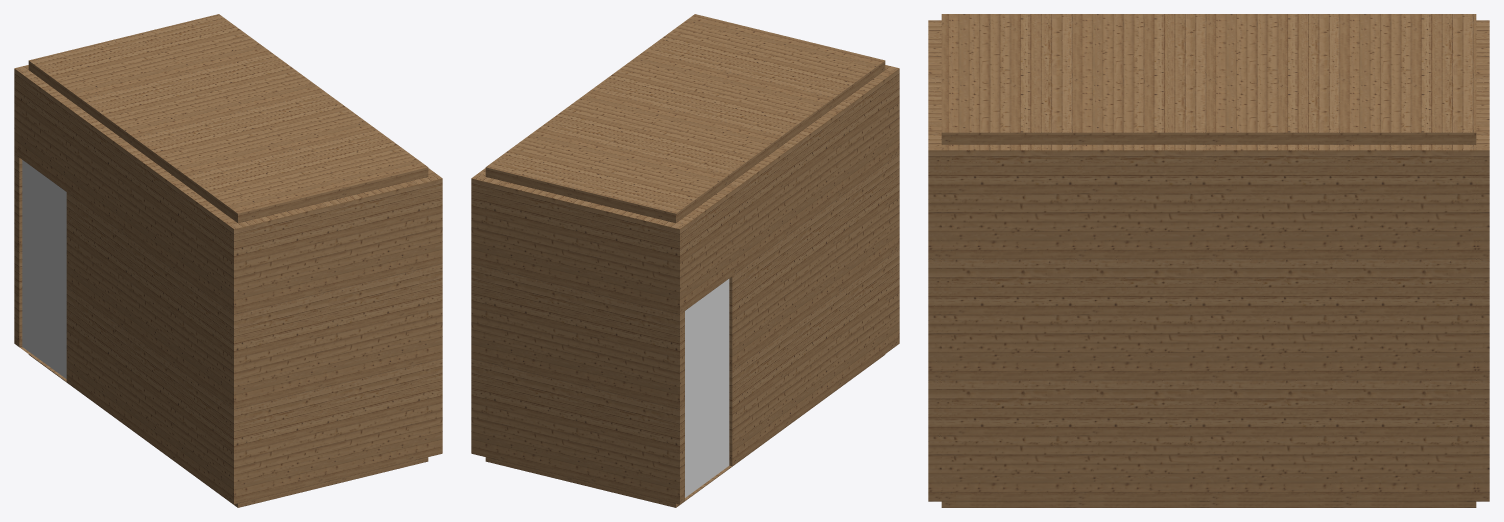
The model's file is Sauna(1).fbx.
3 views of the same model, side by side, from view 1: azimuth 30°, elevation 25°; view 2: azimuth 150°, elevation 25°; view 3: azimuth 270°, elevation 25° (orthographic). The views are drawn at different scales.
Visible parts, largest first — view 1: Cube.012, Cube.013, Cube.004, Cube.002, Cube.003, Cube.005, Cube.023, Cube.018, Cube.008; view 2: Cube.018, Cube.013, Cube.003, Cube.002, Cube.004, Cube.005, Cube.023, Cube.012, Cube.008; view 3: Cube.013, Cube.001, Cube.032, Cube.024, Cube.031, Cube.012, Cube.018, Cube.008.
Boxes of the visible parts, x1,y1,x2,y2 form: Cube.012: [229, 174, 442, 504]; Cube.013: [28, 14, 428, 222]; Cube.004: [124, 146, 184, 461]; Cube.002: [176, 185, 237, 500]; Cube.003: [72, 108, 132, 423]; Cube.005: [22, 160, 66, 378]; Cube.023: [19, 70, 80, 385]; Cube.018: [14, 65, 28, 347]; Cube.008: [28, 354, 428, 507]; Cube.018: [471, 174, 684, 504]; Cube.013: [485, 14, 885, 222]; Cube.003: [729, 146, 789, 461]; Cube.002: [833, 70, 894, 385]; Cube.004: [781, 108, 841, 423]; Cube.005: [685, 279, 729, 497]; Cube.023: [676, 185, 737, 500]; Cube.012: [885, 65, 899, 346]; Cube.008: [485, 354, 885, 507]; Cube.013: [941, 14, 1476, 144]; Cube.001: [1342, 144, 1476, 501]; Cube.032: [941, 144, 1075, 501]; Cube.024: [1209, 144, 1342, 501]; Cube.031: [1075, 144, 1208, 501]; Cube.012: [928, 20, 941, 501]; Cube.018: [1476, 20, 1489, 501]; Cube.008: [941, 501, 1476, 507].
Size of the model in its own units: 230 by 310 by 420.
Materials: 6 (4 with a texture image).
